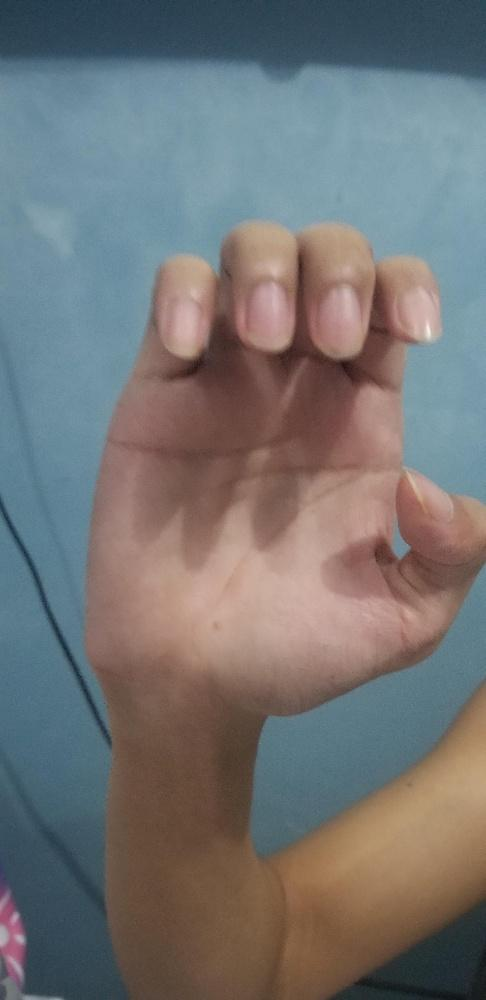e: (71, 221, 485, 725)
